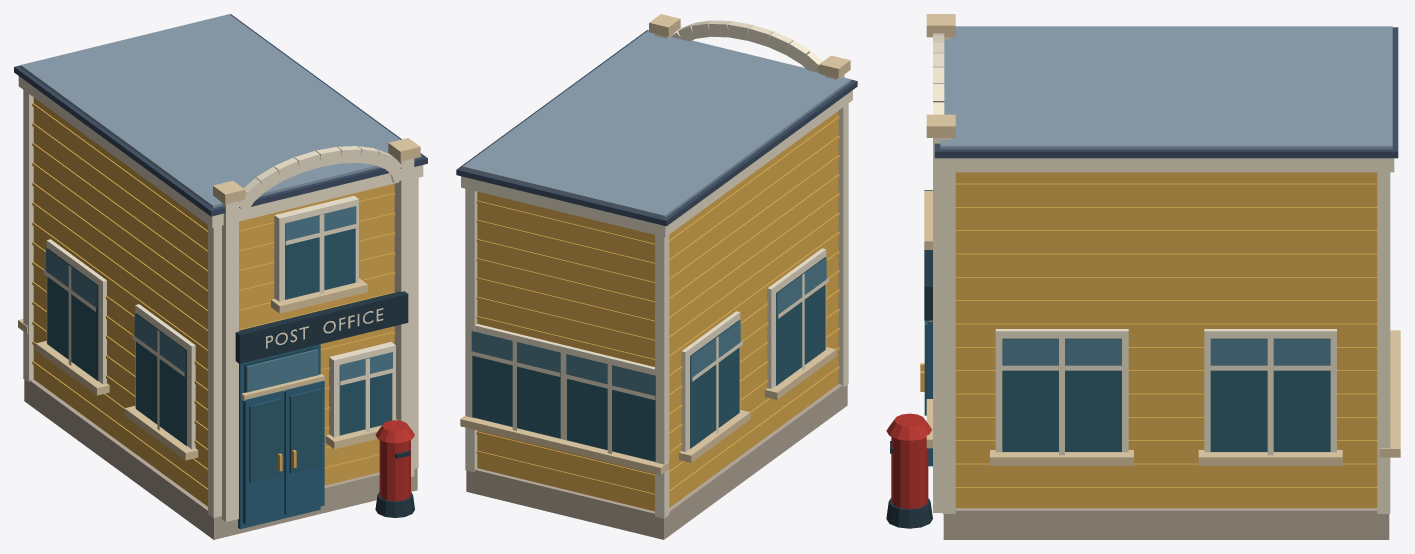
File: post_office.glb
The picture shows the model from 3 angles, left to right: view 1: azimuth 30°, elevation 25°; view 2: azimuth 150°, elevation 25°; view 3: azimuth 270°, elevation 25°; orthographic projection. The views are drawn at different scales.
Parts seen in each view (by area): view 1: post_office; view 2: post_office; view 3: post_office.
Part boxes in pixels (x1,y1,x2,y2): post_office: [14, 14, 427, 539]; post_office: [456, 14, 857, 539]; post_office: [886, 14, 1400, 539].
Size of the model in its own units: 3.72 by 5.87 by 6.39.
